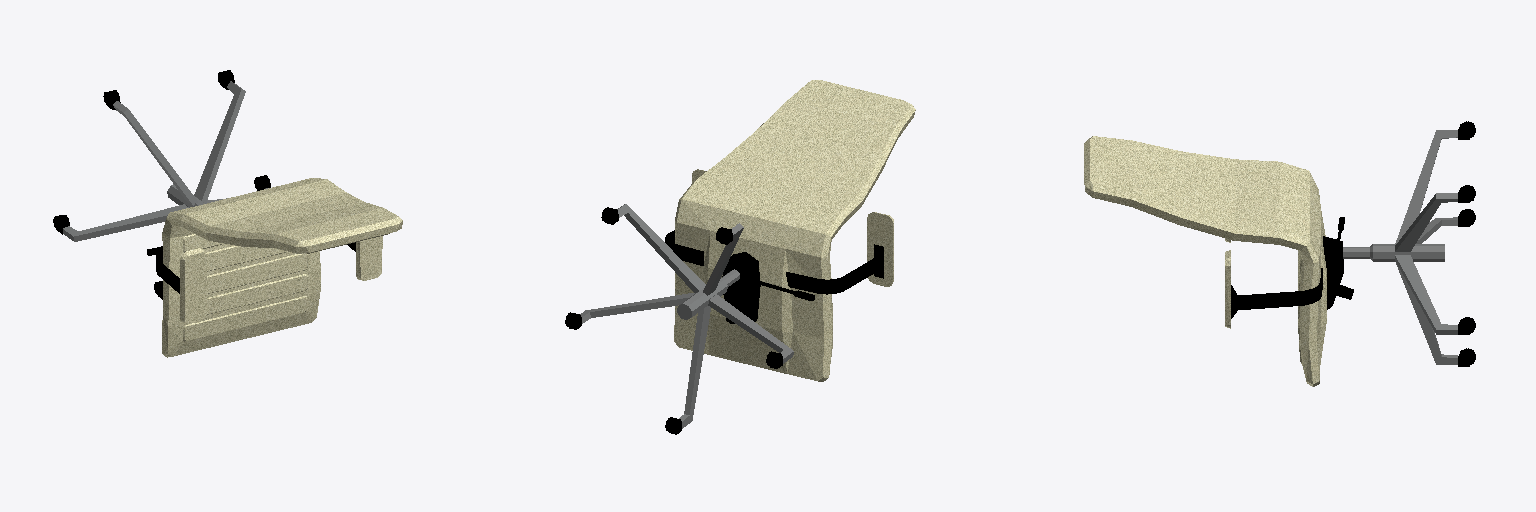
The picture shows the model from 3 angles: view 1: azimuth 30°, elevation 25°; view 2: azimuth 150°, elevation 25°; view 3: azimuth 270°, elevation 25°; orthographic projection.
Parts seen in each view (by area): view 1: Chair_01_Chair__1__lib; view 2: Chair_01_Chair__1__lib; view 3: Chair_01_Chair__1__lib.
Boxes of the visible parts, box(x1,y1,x2,y2) form: Chair_01_Chair__1__lib: box(53, 70, 402, 357); Chair_01_Chair__1__lib: box(565, 80, 915, 434); Chair_01_Chair__1__lib: box(1084, 121, 1475, 386).
Bounding box in the file's own units: 2.24 × 2.21 × 3.61.
3 materials, 1 textured.